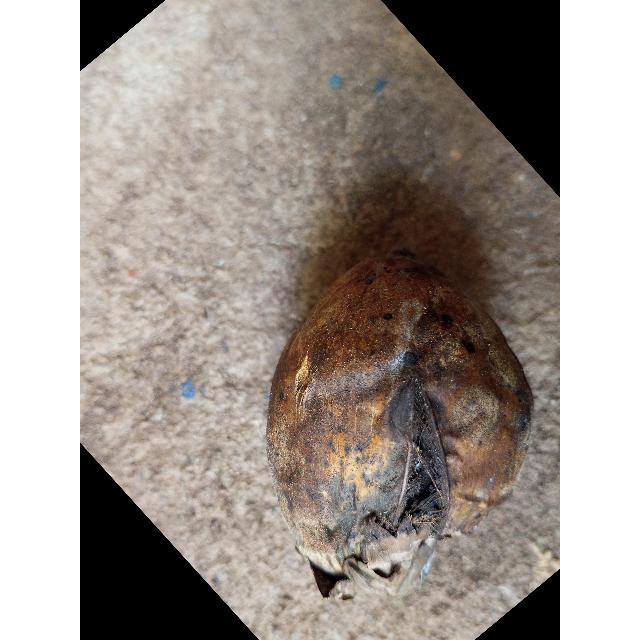damaged: (267, 249, 532, 599)
